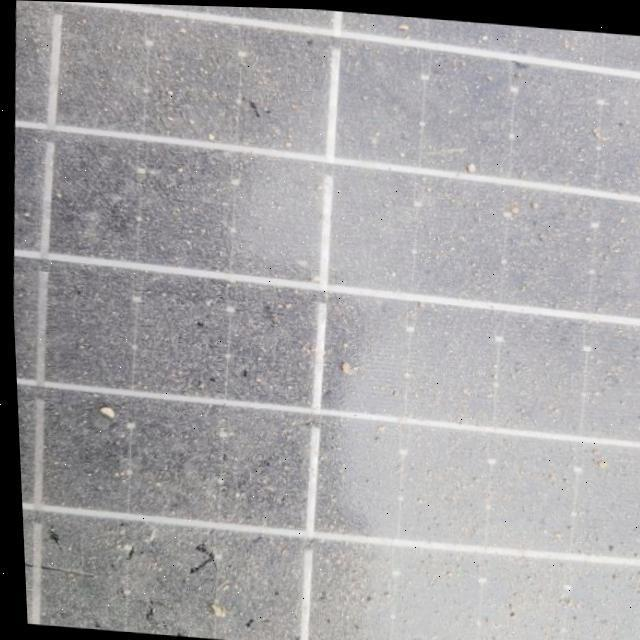Surface Contaminant: (11, 0, 640, 640)
